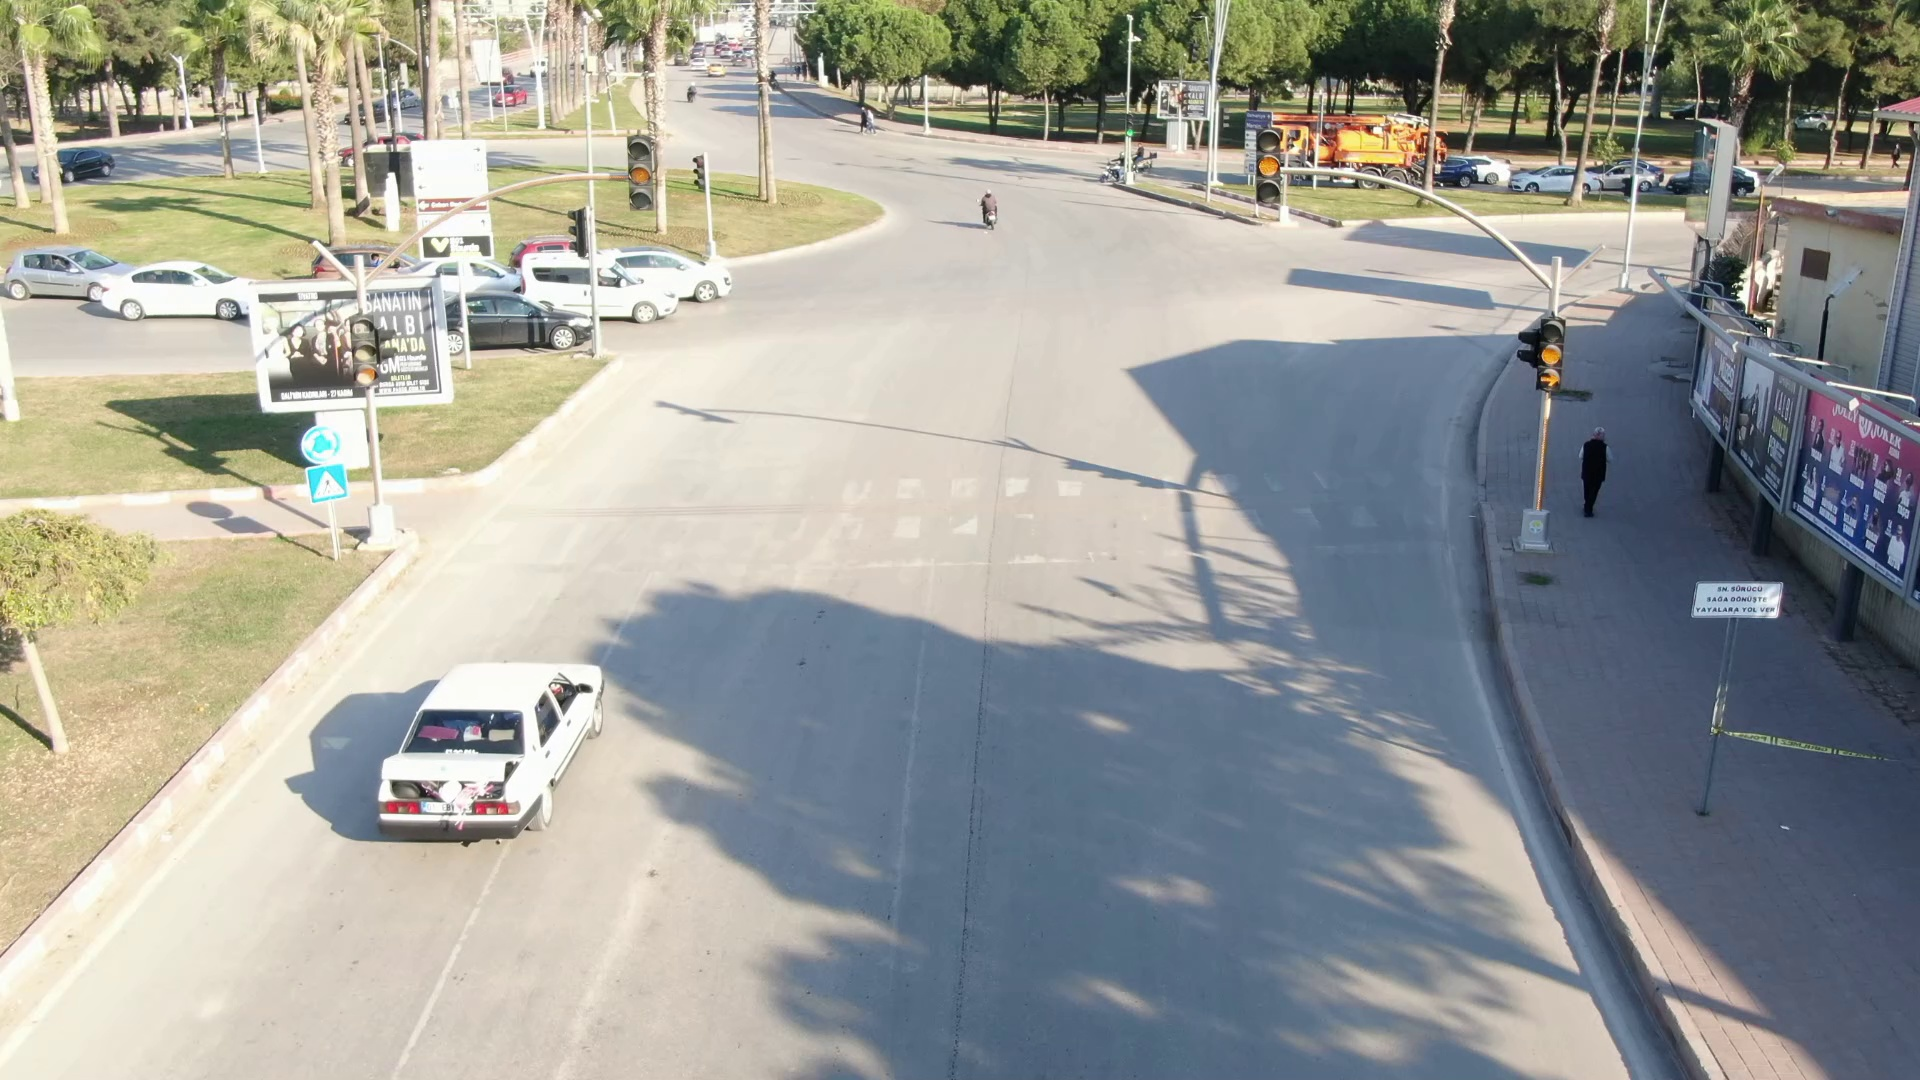car: (345, 655, 633, 853), (419, 286, 604, 363), (527, 245, 674, 327), (100, 255, 259, 317), (602, 239, 737, 304), (2, 239, 135, 300)
person: (1565, 406, 1615, 527), (970, 176, 1010, 237)
